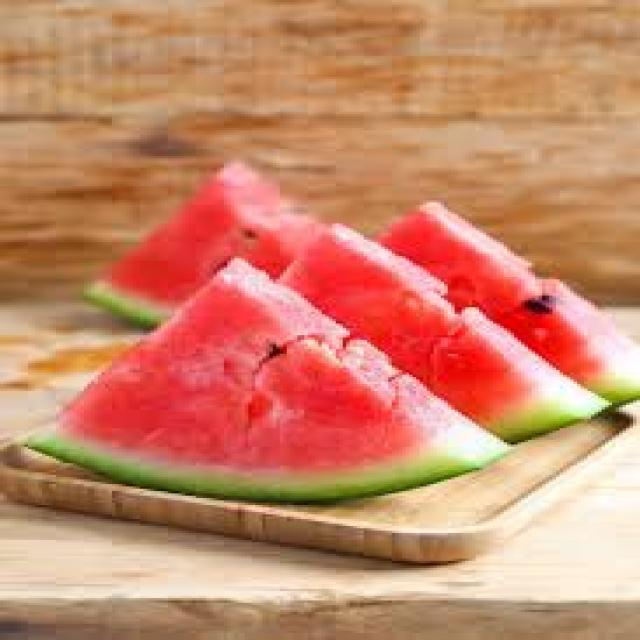watermelon: (14, 256, 514, 503), (370, 200, 636, 407), (80, 158, 290, 328)
